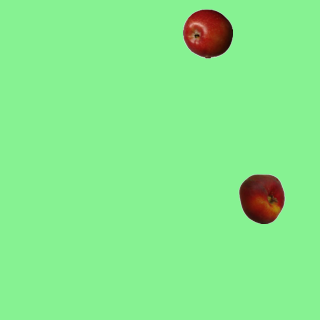Apple Braeburn: (182, 8, 232, 58)
Nectarine Flat: (236, 173, 286, 223)
